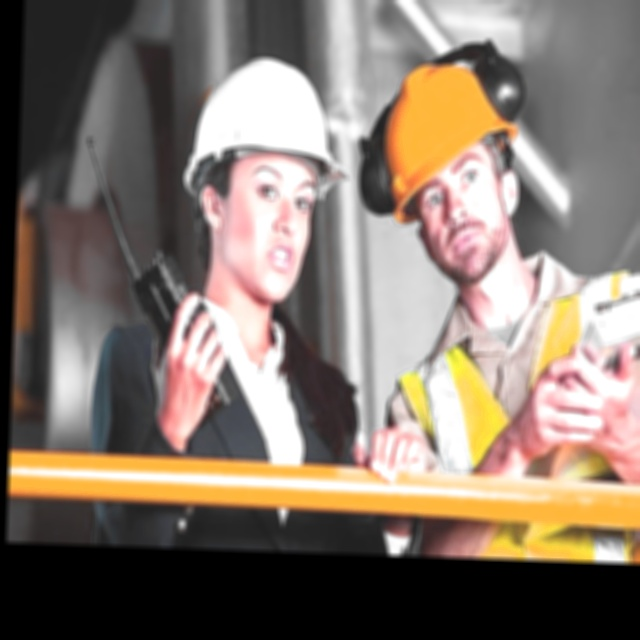Con_Casco: (187, 56, 337, 294), (386, 58, 522, 279)
